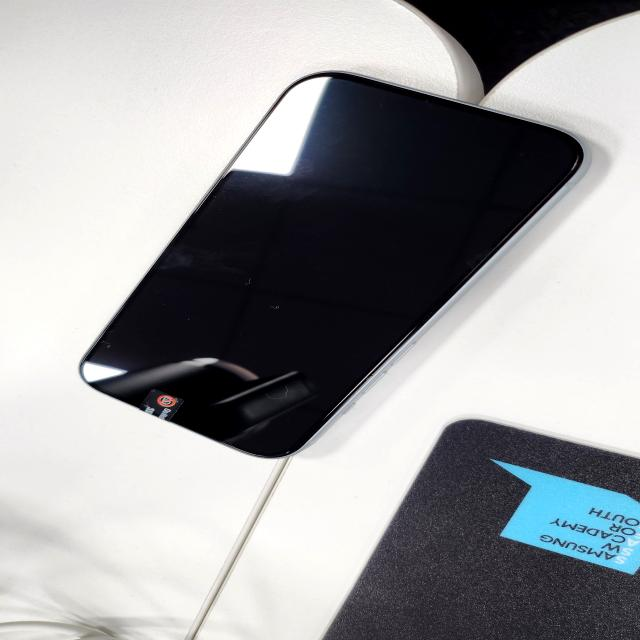phone: (80, 64, 586, 464)
sticker: (135, 388, 187, 424)
